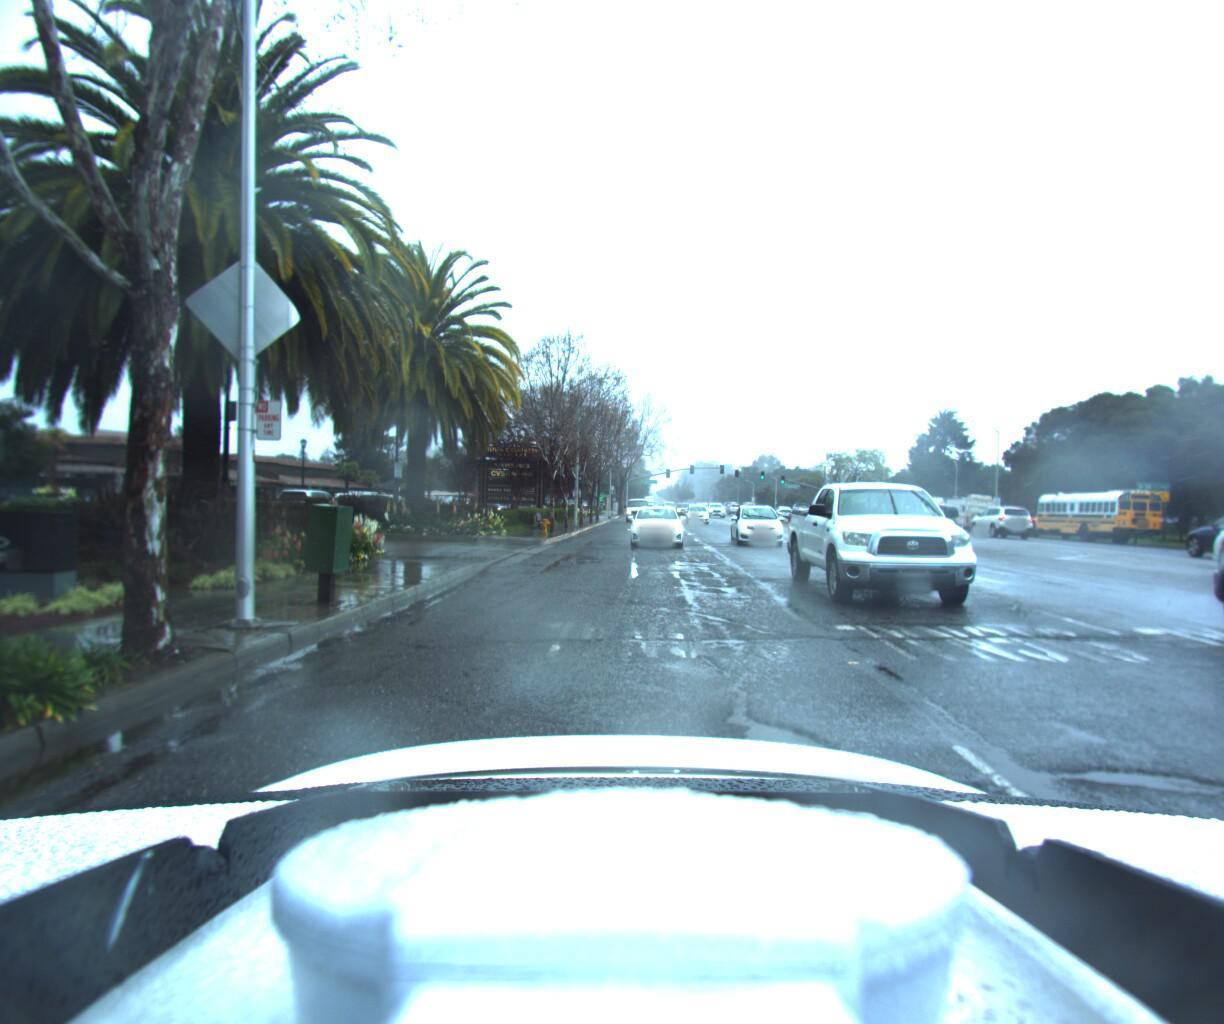bus: (1021, 483, 1163, 546)
car: (789, 465, 1031, 623), (1195, 486, 1224, 600), (726, 501, 791, 548), (1171, 508, 1224, 563), (628, 501, 684, 549), (965, 503, 1038, 537), (906, 499, 959, 529), (623, 498, 651, 522), (786, 498, 817, 519), (684, 501, 711, 523)
other_vehicle: (934, 490, 1003, 532), (900, 492, 961, 529)
